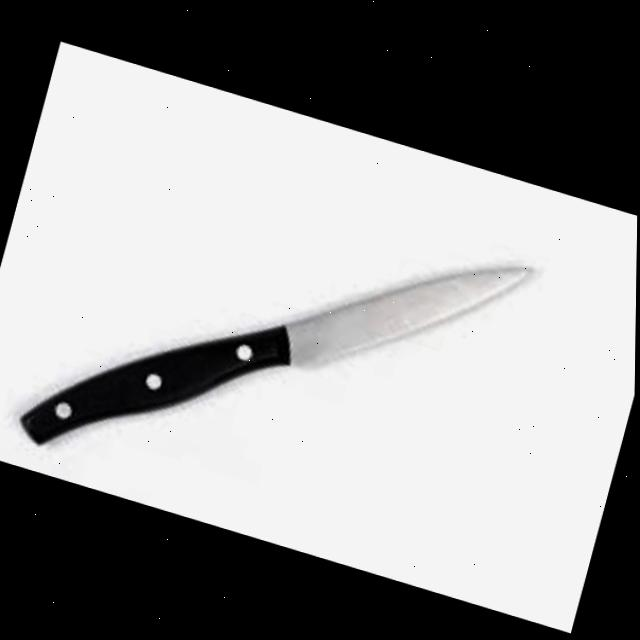Knife: (13, 125, 540, 568)
